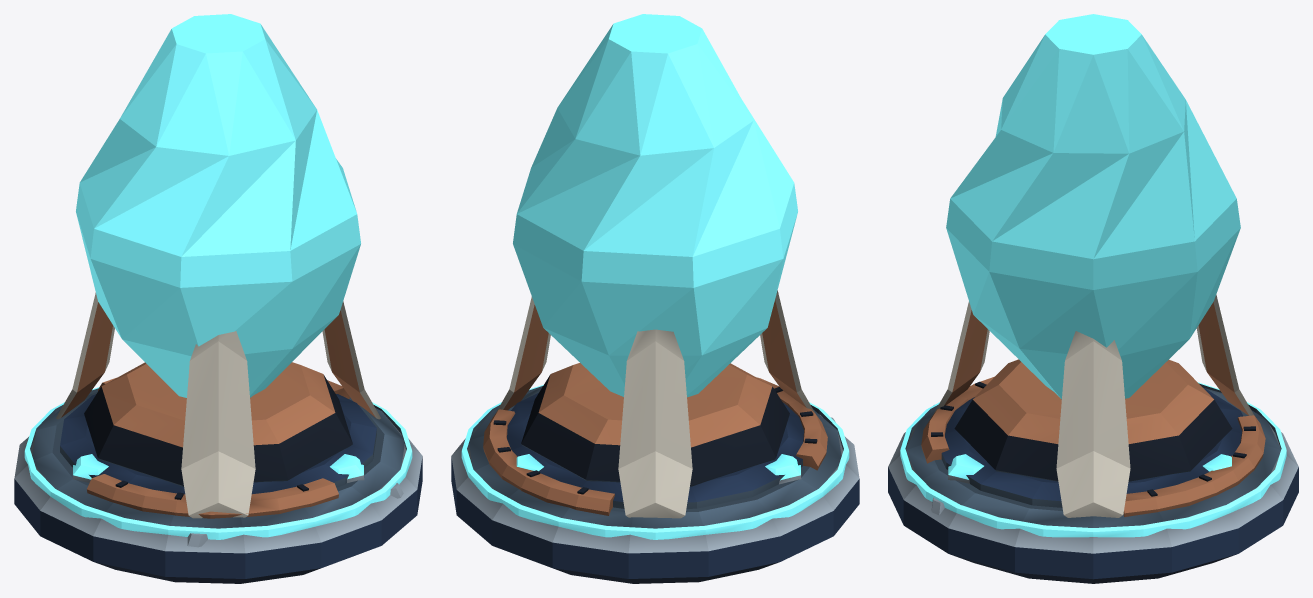
The model's file is target.glb.
The picture shows the model from 3 angles, left to right: view 1: azimuth 30°, elevation 25°; view 2: azimuth 150°, elevation 25°; view 3: azimuth 270°, elevation 25°; orthographic projection.
Parts seen in each view (by area): view 1: target; view 2: target; view 3: target.
Part boxes in pixels (x1,y1,x2,y2): target: [14, 14, 422, 583]; target: [451, 14, 859, 583]; target: [888, 14, 1298, 583].
Bounding box in the file's own units: 1.02 × 1.31 × 1.02.
